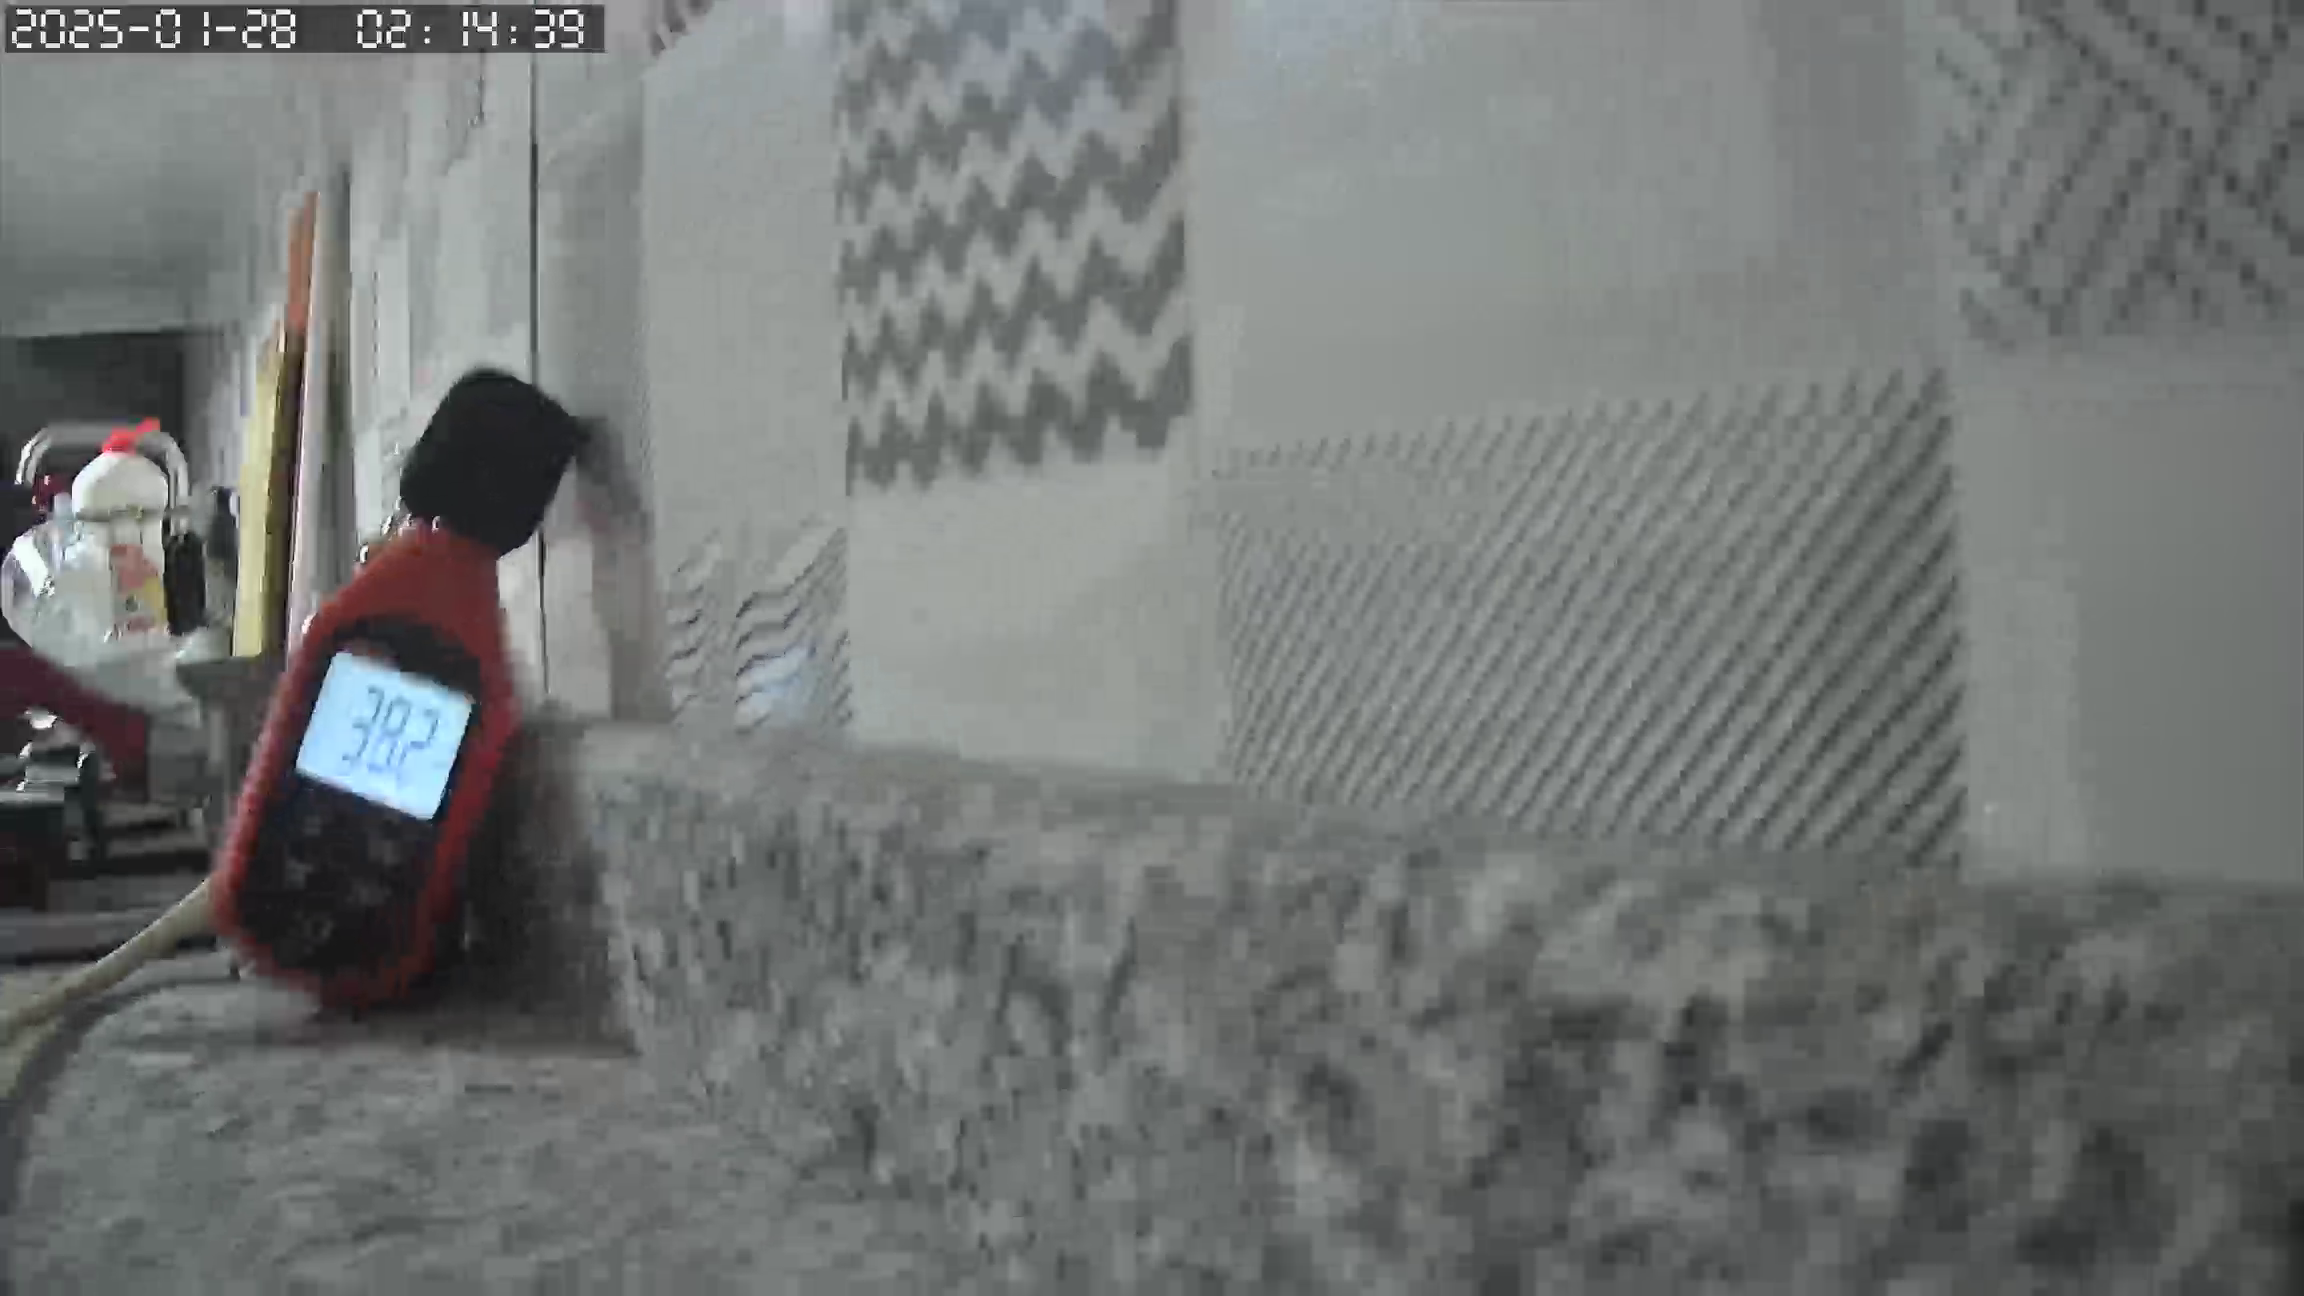screen: (294, 654, 475, 826)
